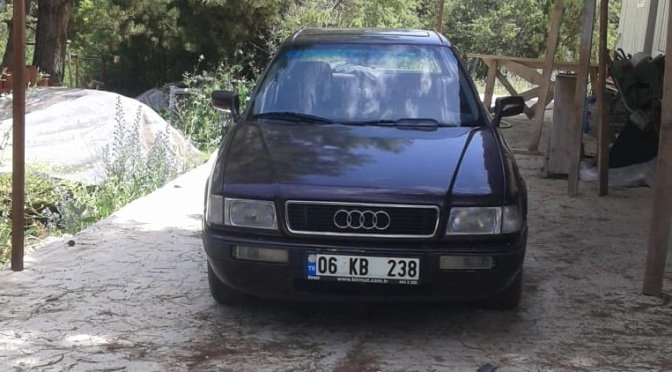audi: (328, 206, 391, 236)
